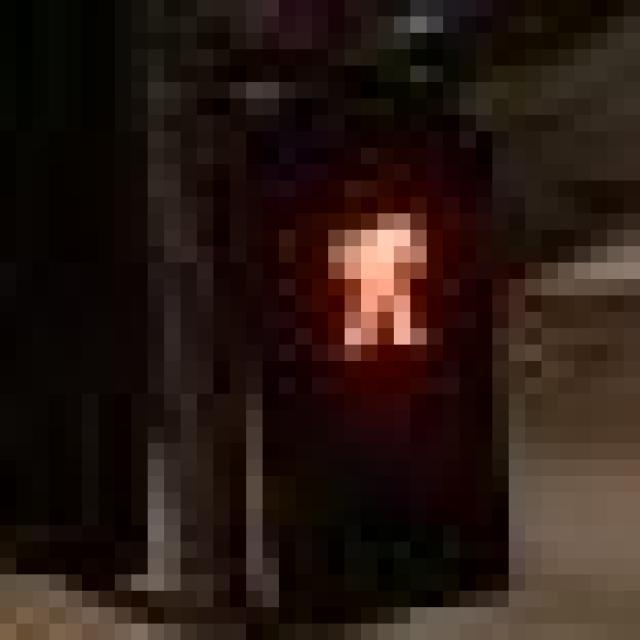red-crossing: (278, 164, 460, 378)
